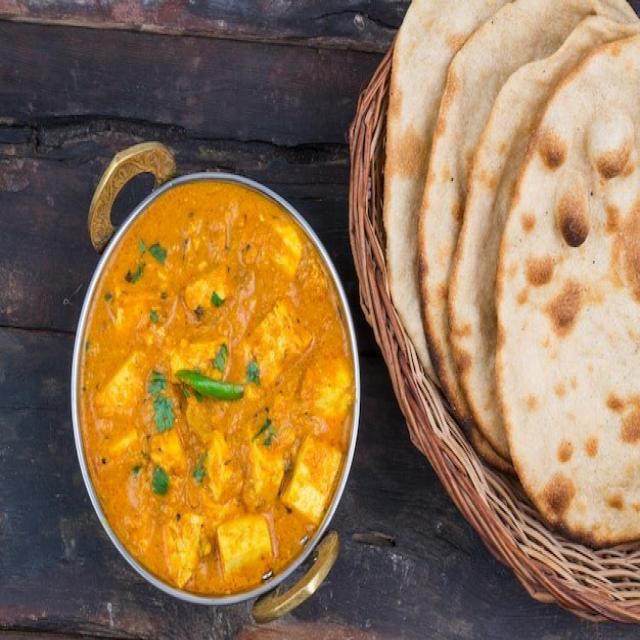ShahiPaneer: (80, 177, 350, 596)
